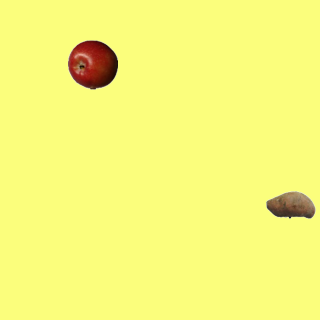Apple Braeburn: (67, 39, 117, 89)
Potato Sweet: (265, 179, 315, 229)
